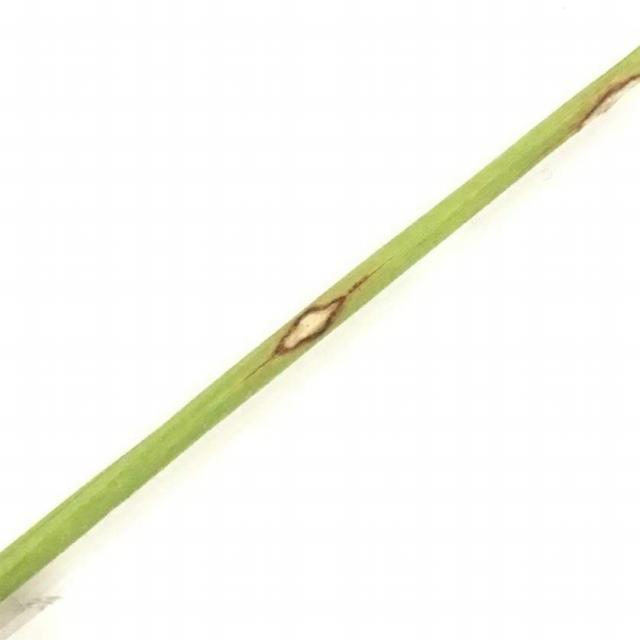Blast: (272, 294, 336, 352)
